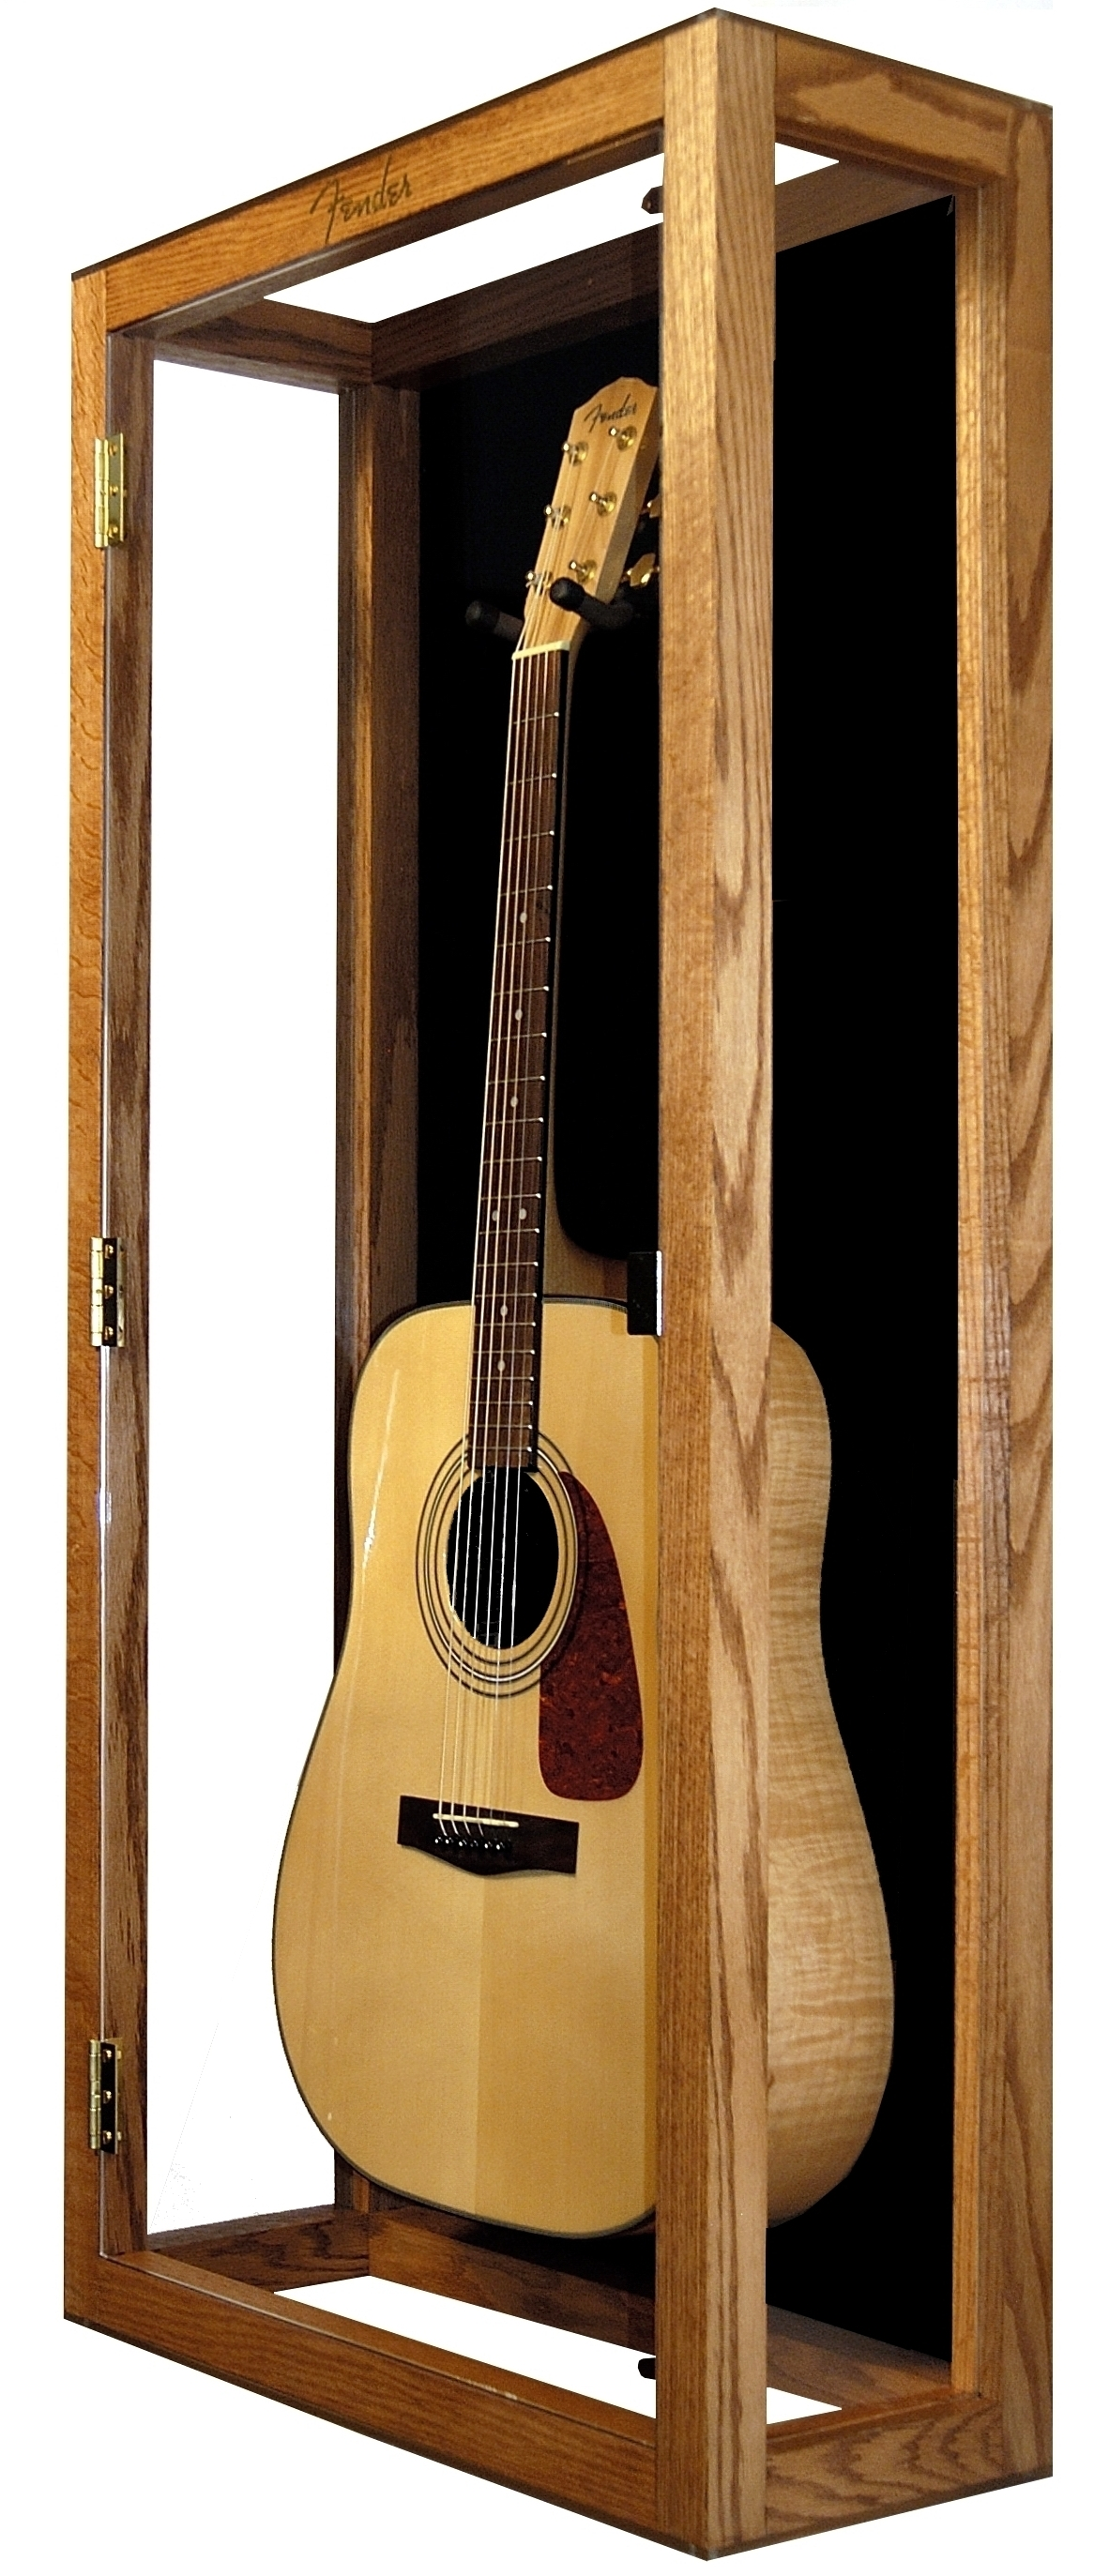guitar: (260, 373, 899, 2241)
